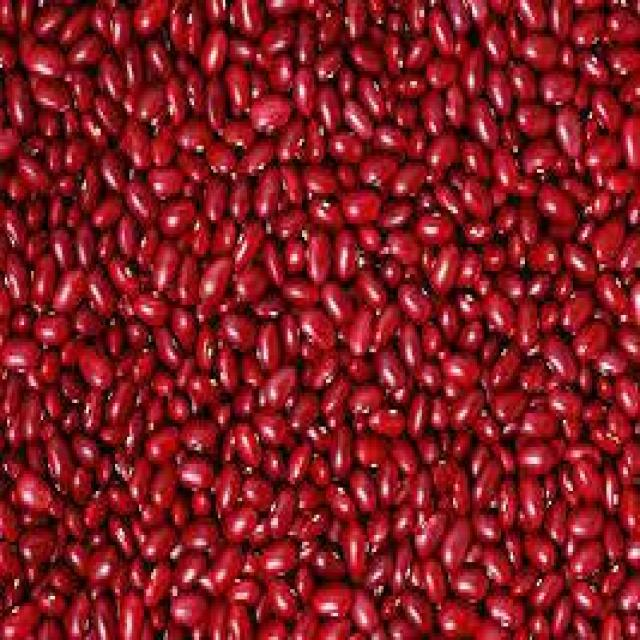other: (1, 10, 634, 629)
